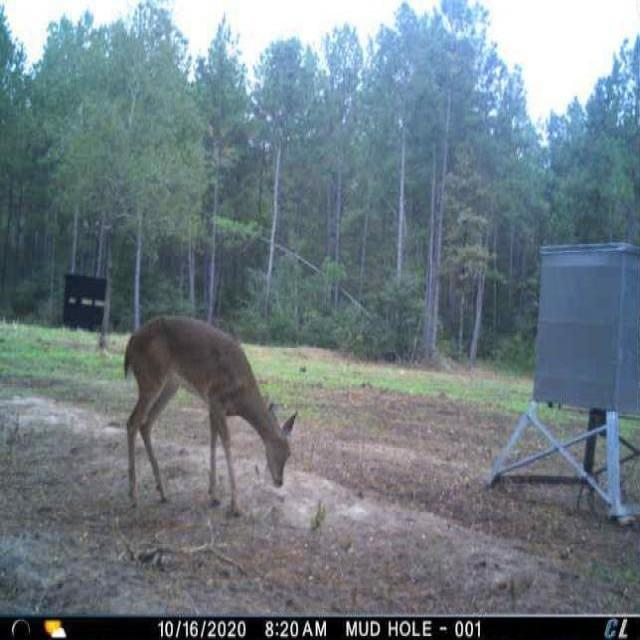deer: (122, 311, 305, 520)
